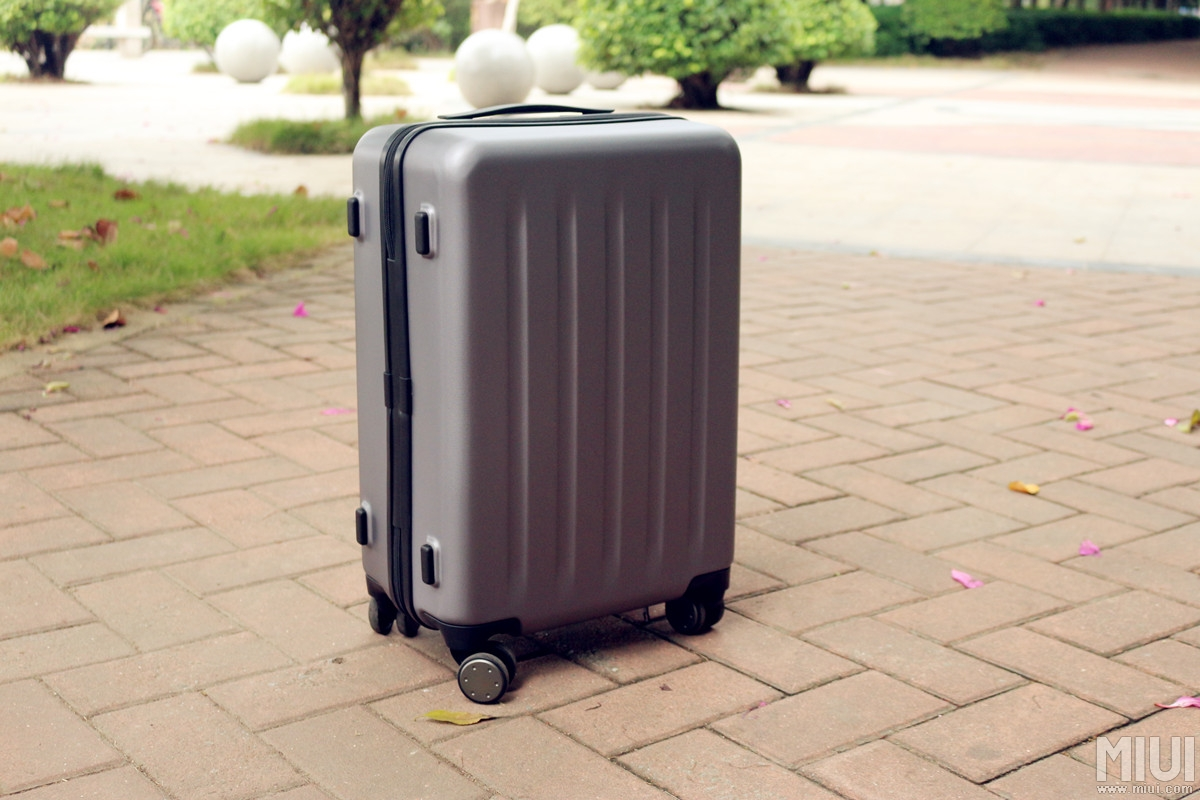suitcase: (346, 105, 746, 702)
